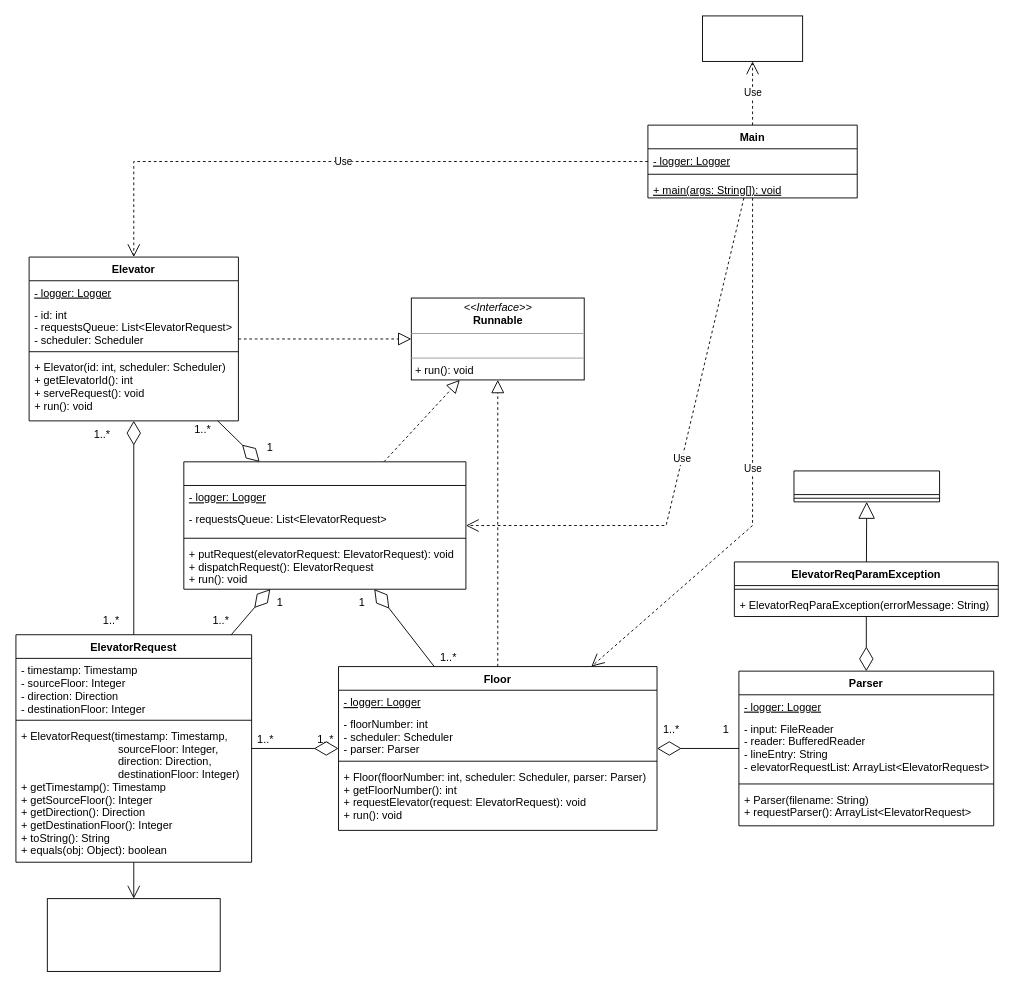
Some shapes in this 1015 by 987 pixel diagram are drawn without their labels. Here are the shapes that lost their labels. From the top down, the box of each, then its label:
(702, 15, 803, 61): java.lang.Thread
(793, 470, 940, 502): Exception
(183, 461, 466, 589): Scheduler
(46, 898, 220, 971): <<Enumeration>> Direction UP DOWN
